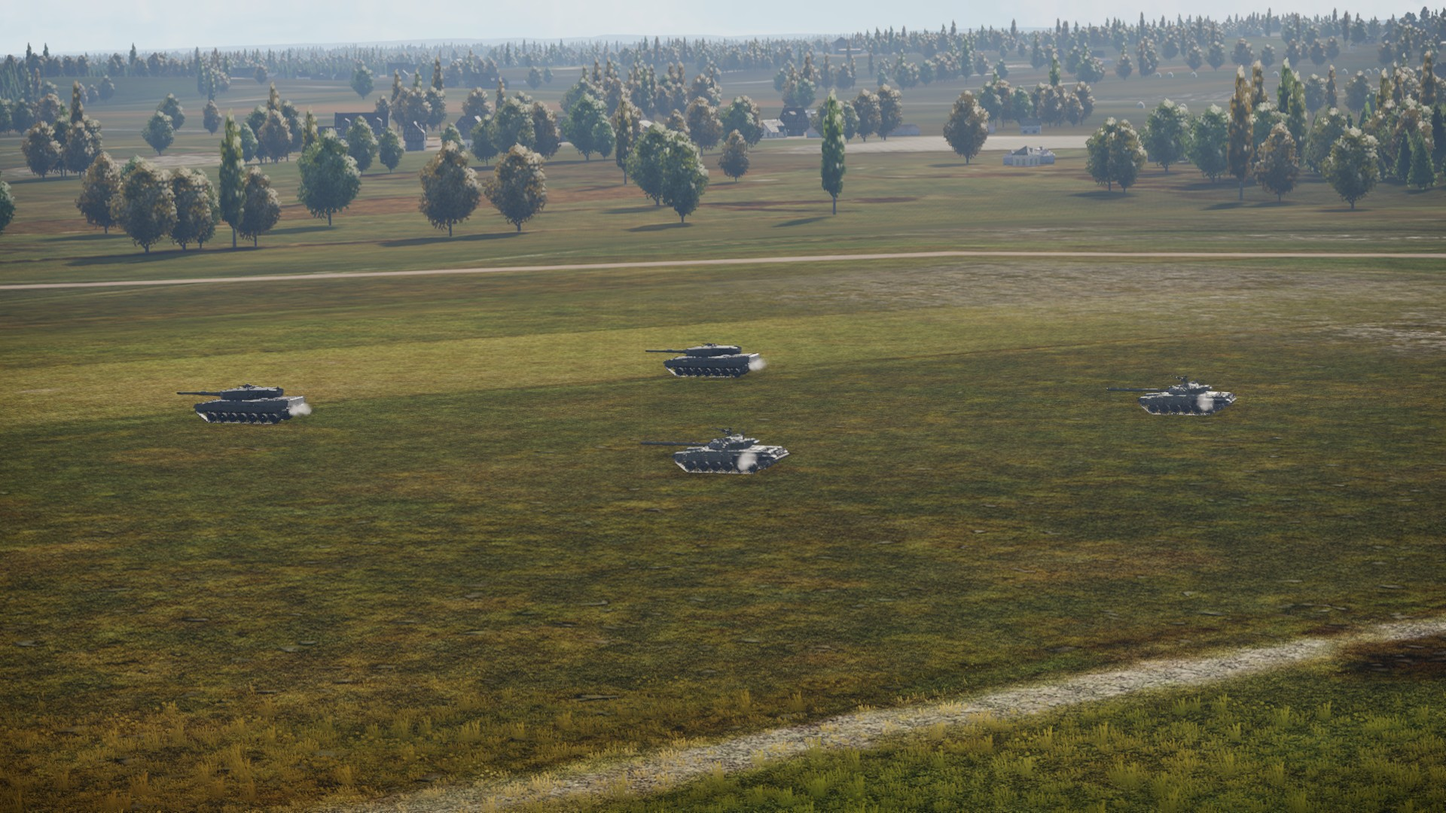leopard2: (176, 384, 306, 425), (644, 344, 761, 378)
t72b: (639, 429, 790, 474), (1106, 378, 1237, 416)
